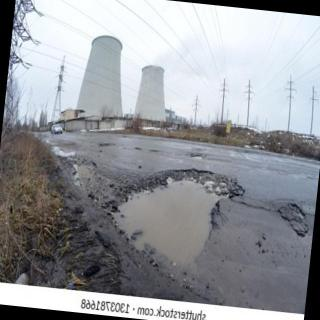pothole: (110, 170, 244, 276)
